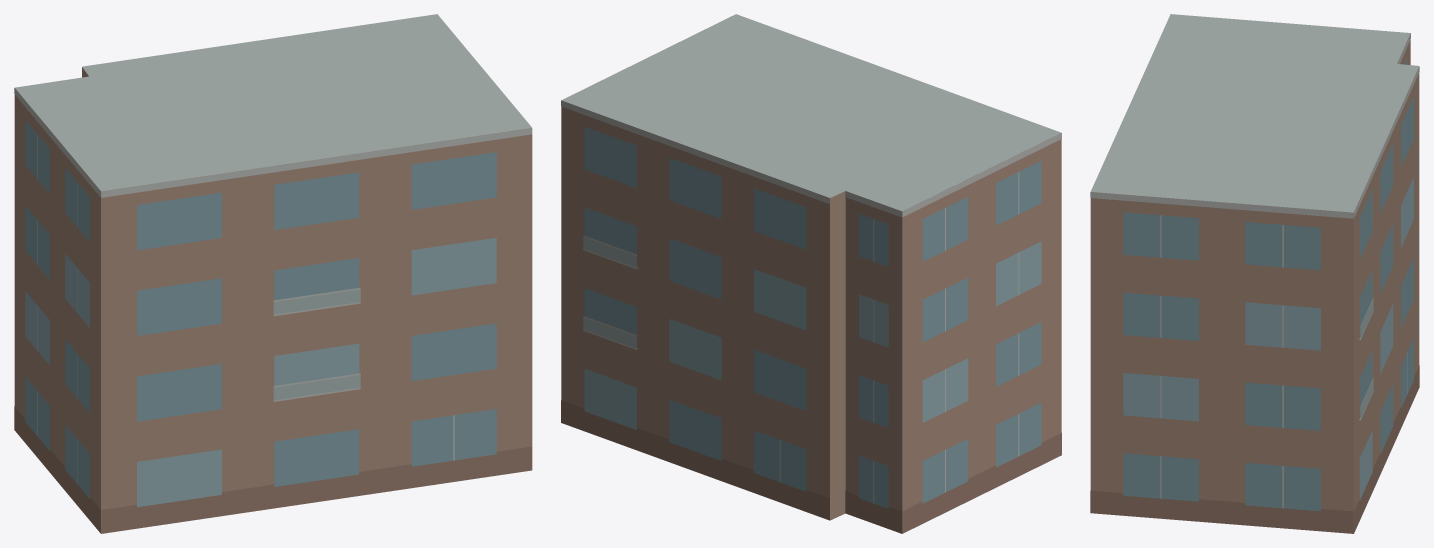
File: survey-upis-32499834.glb
3 renders of one model, left to right at view 1: azimuth 30°, elevation 25°; view 2: azimuth 150°, elevation 25°; view 3: azimuth 270°, elevation 25°, orthographic. The views are drawn at different scales.
Visible parts, largest first — view 1: survey-upis-32499834.tmp; view 2: survey-upis-32499834.tmp; view 3: survey-upis-32499834.tmp.
Part boxes in pixels (x1,y1,x2,y2): survey-upis-32499834.tmp: (14,14,532,533); survey-upis-32499834.tmp: (561,14,1061,533); survey-upis-32499834.tmp: (1090,14,1419,533).
Bounding box in the file's own units: 16.98 × 12.8 × 11.89.
